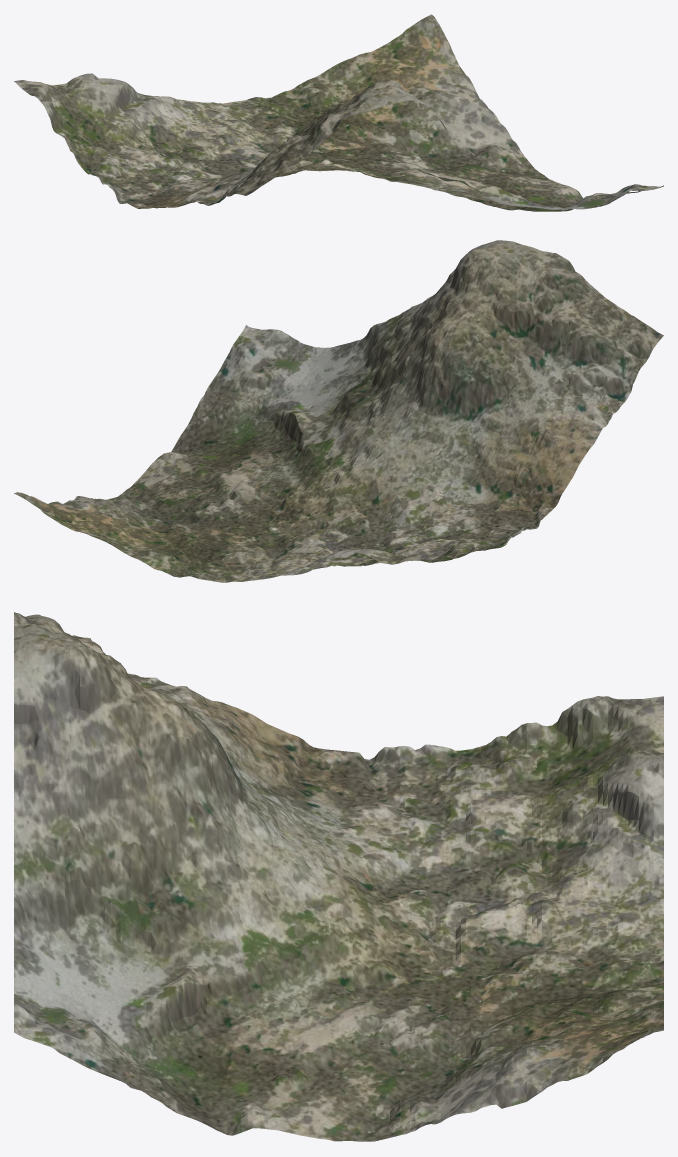
3 views of the same model, one above another, from view 1: azimuth 30°, elevation 25°; view 2: azimuth 150°, elevation 25°; view 3: azimuth 270°, elevation 25° (orthographic). The views are drawn at different scales.
Size of the model in its own units: 500 by 263 by 481.
Materials: 1 (1 with a texture image).
